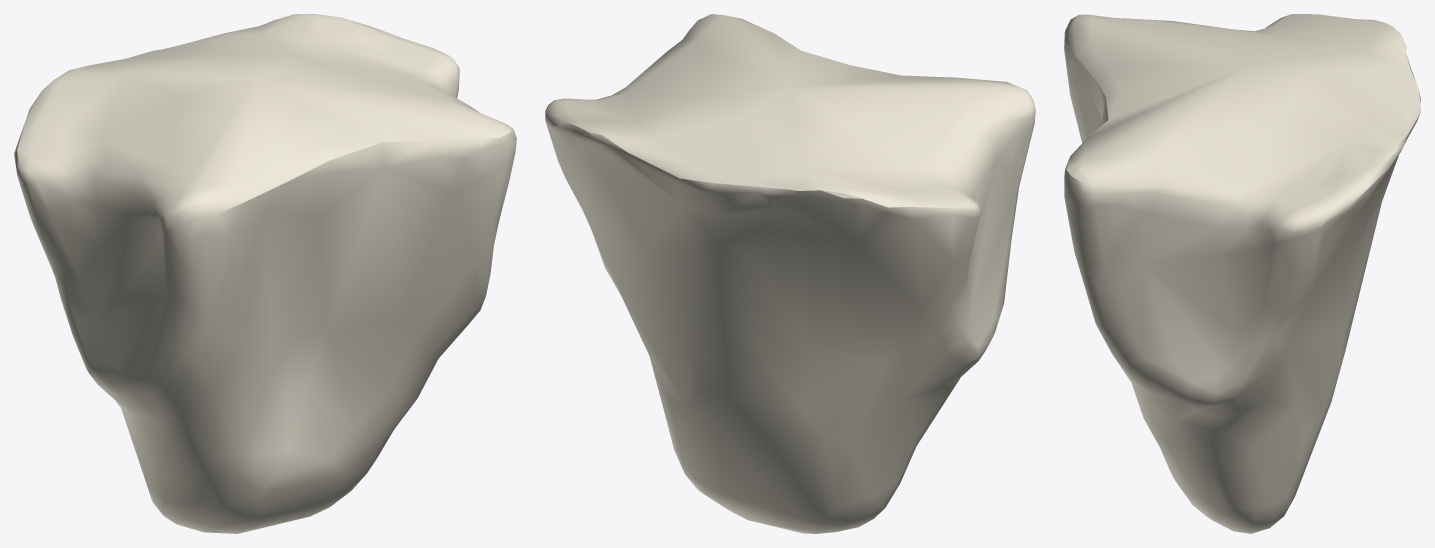
Rendered from fma7488_fj6272.glb.
The picture shows the model from 3 angles, left to right: view 1: azimuth 30°, elevation 25°; view 2: azimuth 150°, elevation 25°; view 3: azimuth 270°, elevation 25°; orthographic projection. The views are drawn at different scales.
Parts seen in each view (by area): view 1: FMA7488_FJ6272; view 2: FMA7488_FJ6272; view 3: FMA7488_FJ6272.
Boxes of the visible parts, bbox=[...] form: FMA7488_FJ6272: bbox=[14, 14, 516, 533]; FMA7488_FJ6272: bbox=[545, 14, 1035, 533]; FMA7488_FJ6272: bbox=[1064, 14, 1420, 533].
Size of the model in its own units: 0.021 by 0.0204 by 0.0148.
